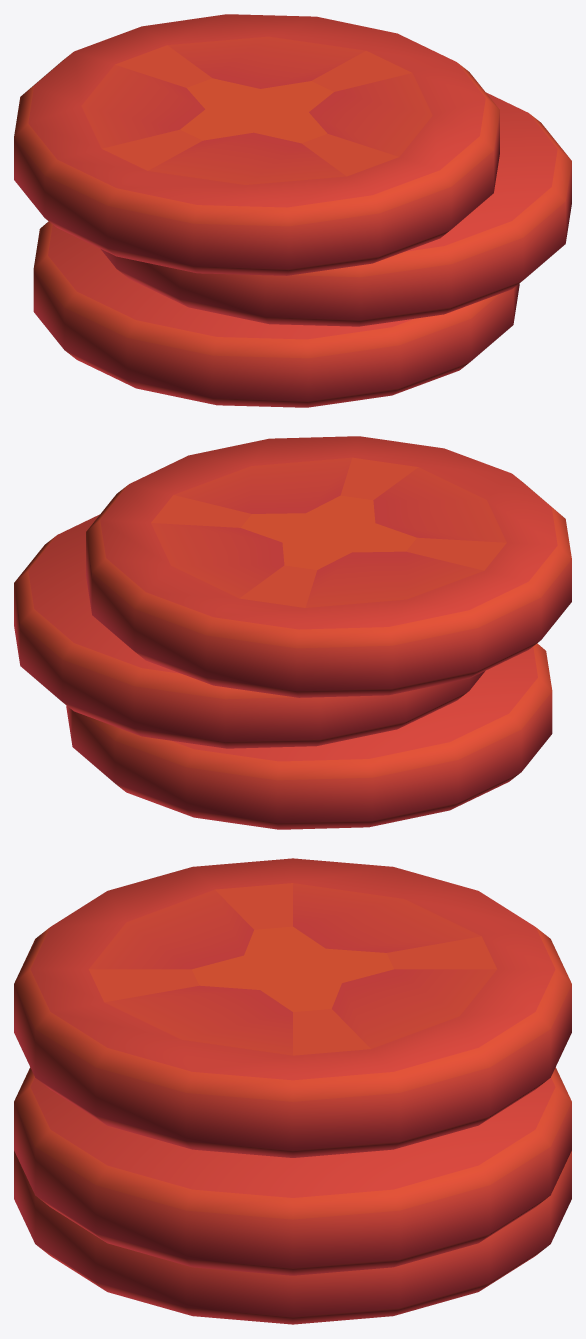
The model's file is food_ingredient_tomato_slices.obj.
The picture shows the model from 3 angles, top to bottom: view 1: azimuth 30°, elevation 25°; view 2: azimuth 150°, elevation 25°; view 3: azimuth 270°, elevation 25°; orthographic projection. The views are drawn at different scales.
Parts seen in each view (by area): view 1: food_ingredient_tomato_slices_Sphere.001; view 2: food_ingredient_tomato_slices_Sphere.001; view 3: food_ingredient_tomato_slices_Sphere.001.
Boxes of the visible parts, x1,y1,x2,y2 form: food_ingredient_tomato_slices_Sphere.001: (14, 14, 571, 407); food_ingredient_tomato_slices_Sphere.001: (14, 436, 571, 829); food_ingredient_tomato_slices_Sphere.001: (14, 858, 571, 1324).
Bounding box in the file's own units: 0.76 × 0.3 × 0.65.
1 material, 1 textured.
